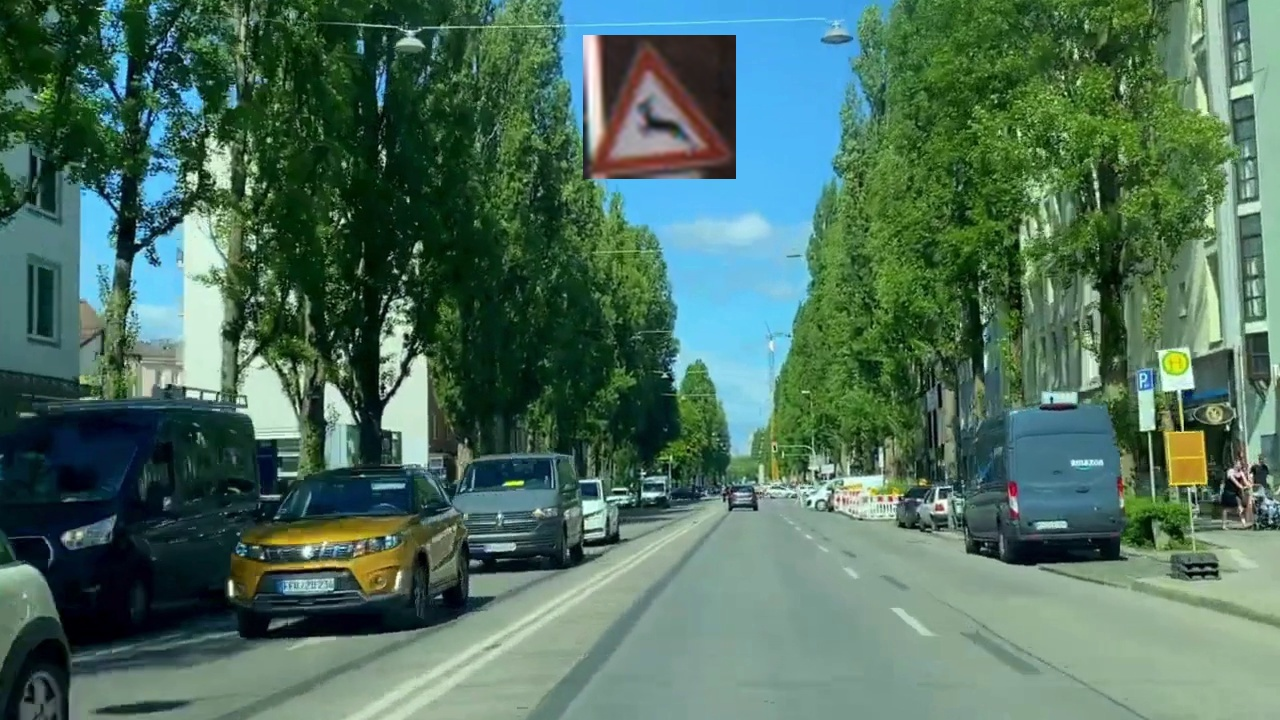Wild animals: (583, 35, 736, 179)
